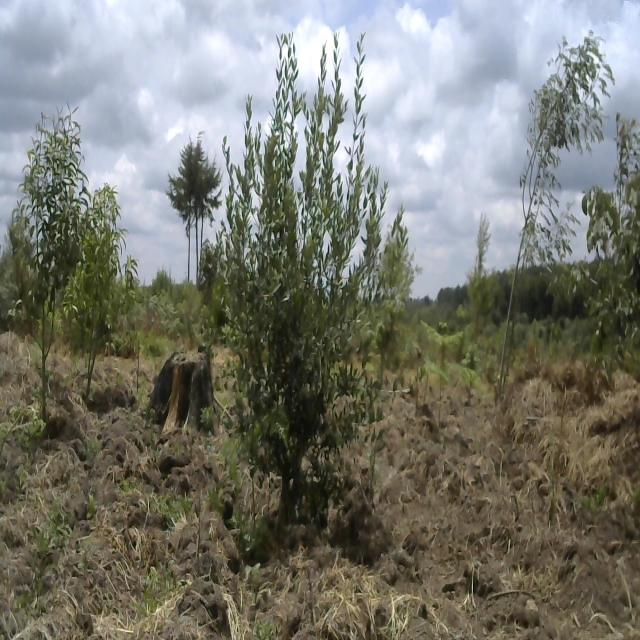Juniperus procesera: (159, 130, 222, 236)
Olea europea -africana-: (230, 19, 399, 556)
Olea welwitchii: (15, 96, 90, 433), (75, 178, 130, 394)
